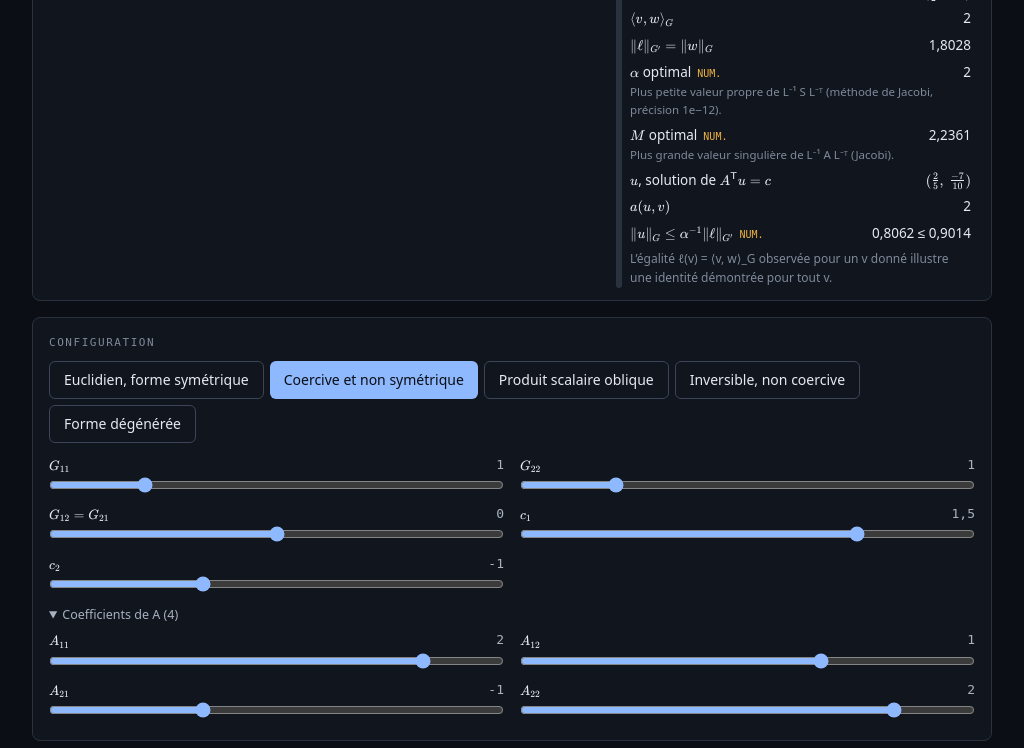
Laboratoire B — Riesz et Lax–Milgram › une valeur inexacte est refusée
This screenshot has width=1024, height=748.
(page scrolled)
Click the button "Produit scalaire oblique".
click(576, 380)  # box [484,360,669,398]
(page scrolled)
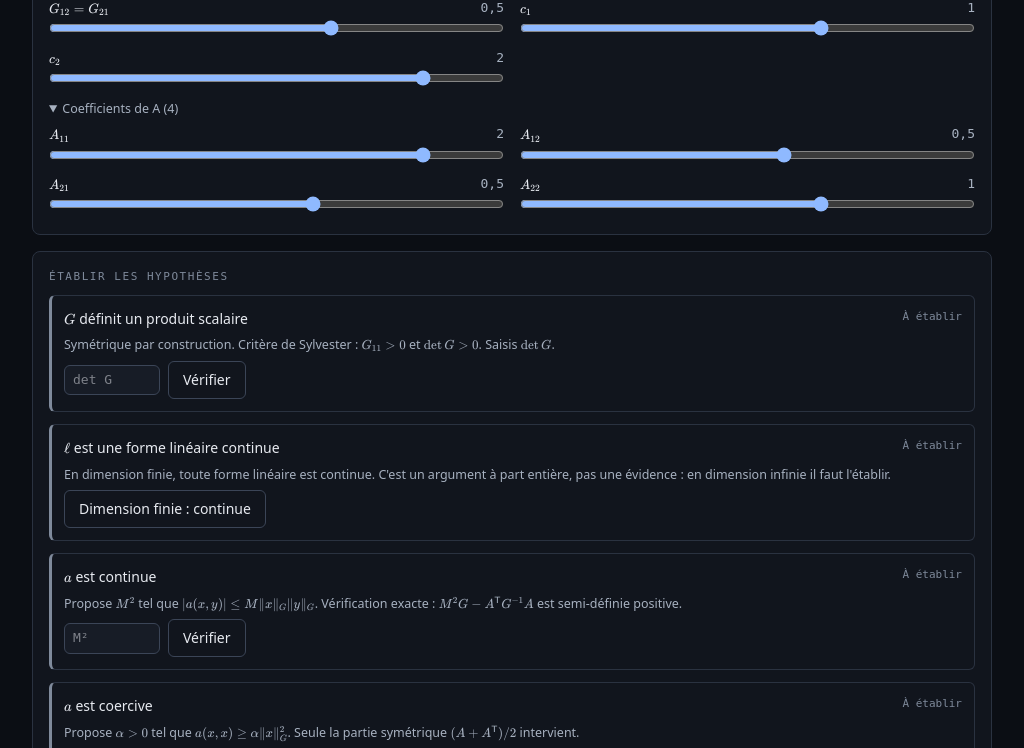
Type "1.74" into the field named "Déterminant de G".
click(112, 380); type("1.74")  # box [64,365,160,395]
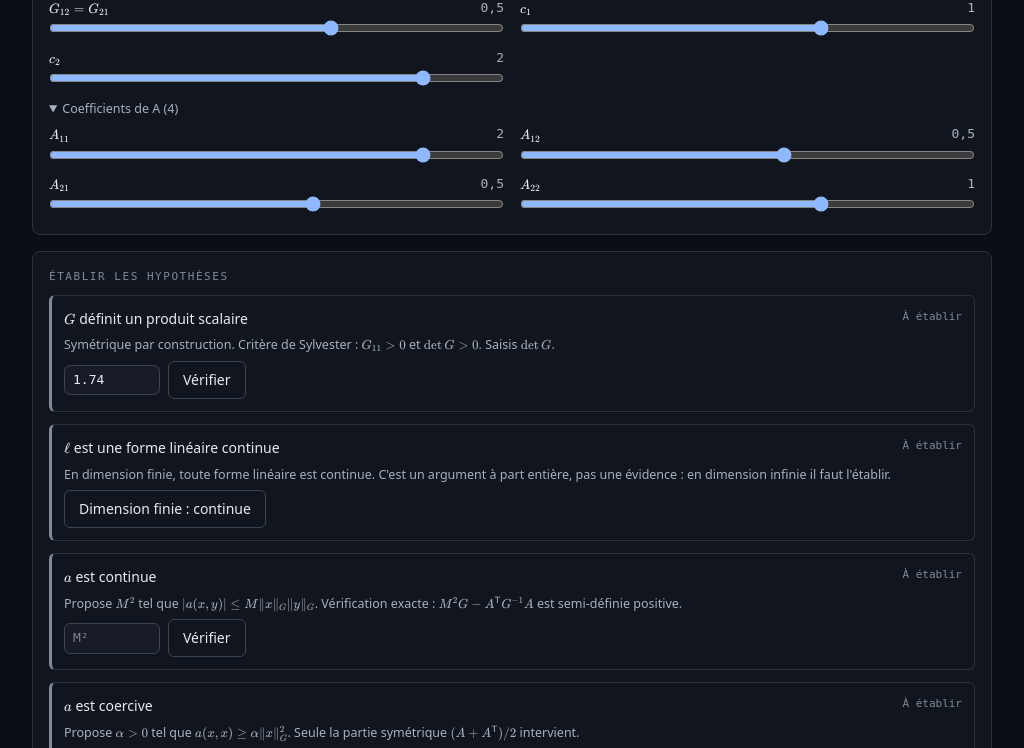
Click the button "Vérifier" below ". Saisis".
click(207, 380)  # box [168,361,246,399]
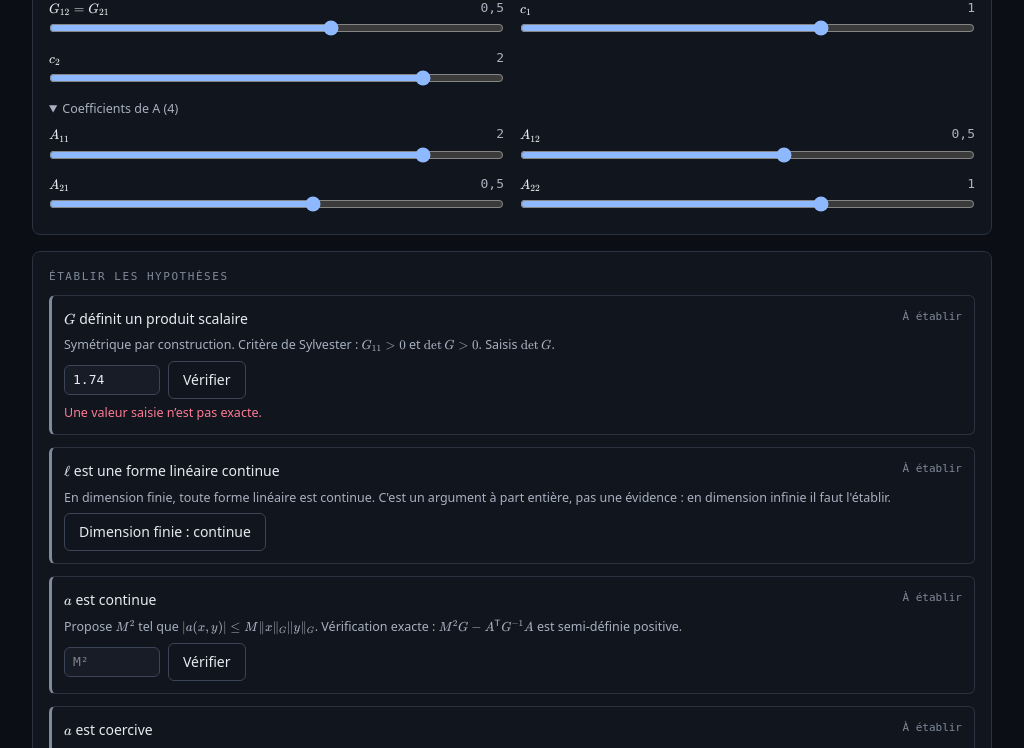
Expected: the text "Une valeur saisie n’est pas exacte." is shown, [64,404,262,421]
